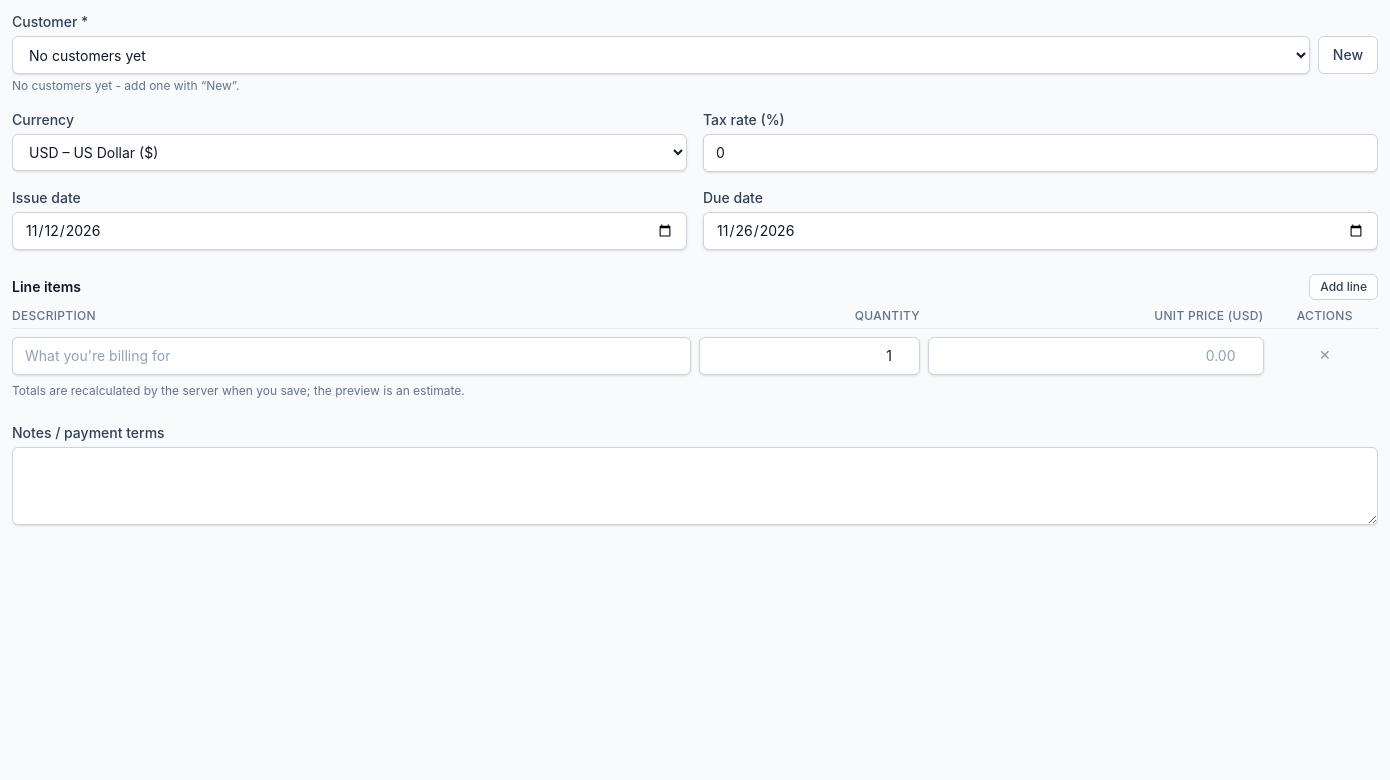
Test: InvoiceEditor › offers INR with its name and symbol and warns that PayPal cannot collect it
Select "INR – Indian Rupee (₹)" in the dropdown labelled "Currency" at (350, 152), box [12,134,687,171]
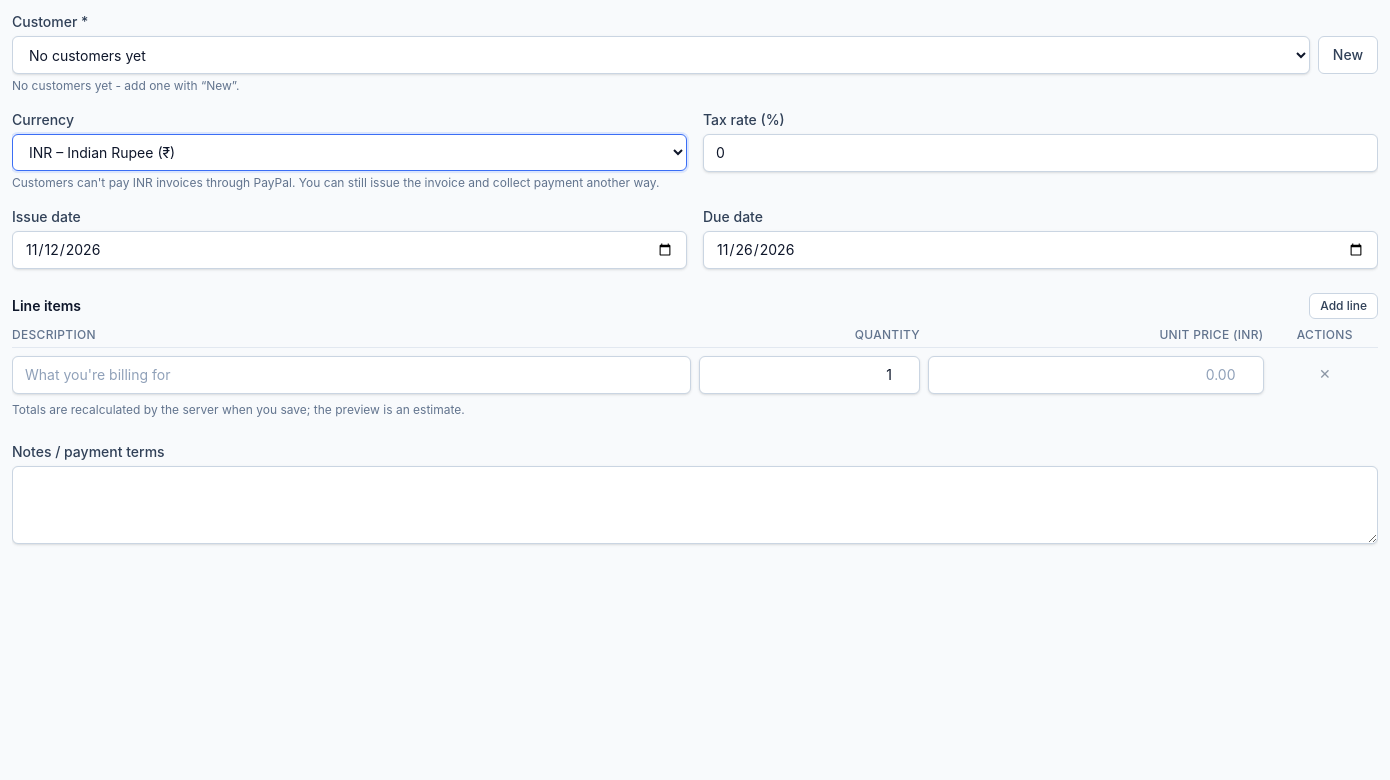
Check: the text "can't pay INR invoices through PayPal" is shown, box [12,175,660,190]
Check: the column heading "Unit price (INR)" is shown, box [1159,327,1264,342]
